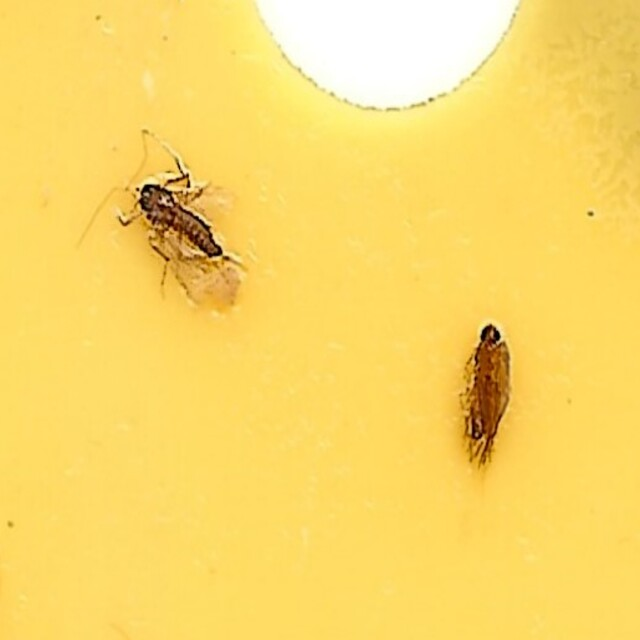Nematocera: (124, 166, 251, 319)
Trichoptera: (457, 308, 516, 474)
